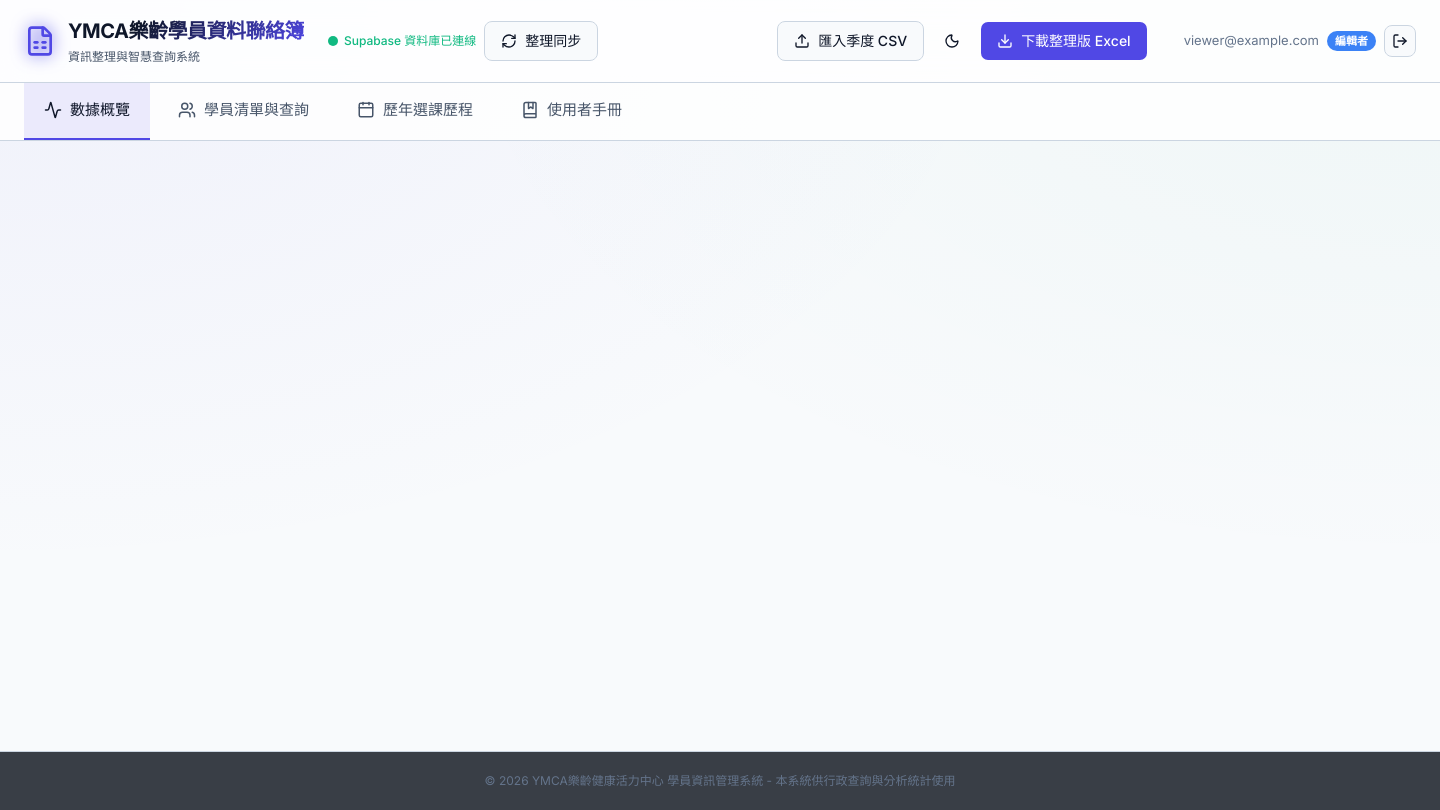
Test: App header access controls › opens the user manual from its navigation tab
This screenshot has width=1440, height=810.
Click the button with id "tab-manual".
click(572, 111)  # box [501,83,642,140]
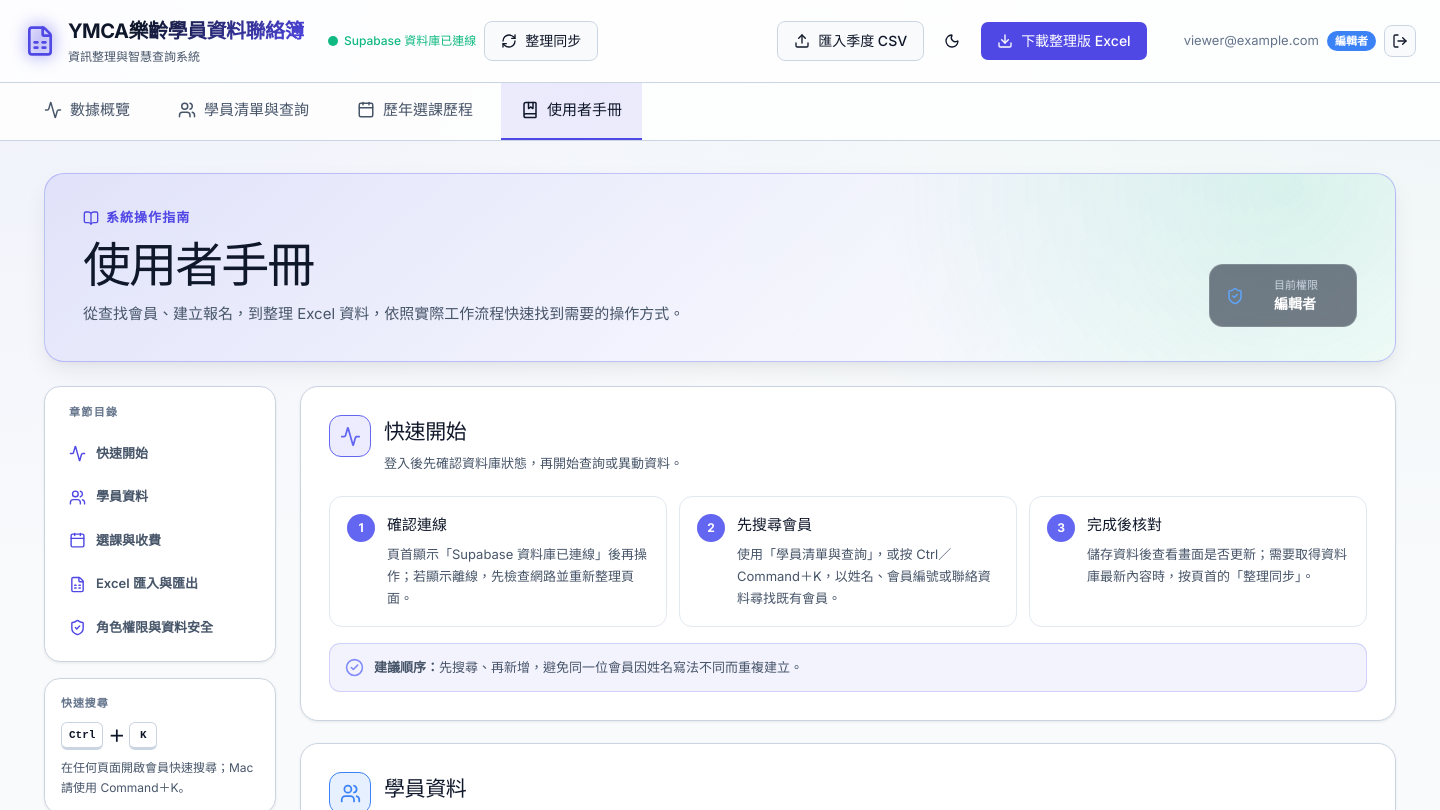
Expected: the heading "使用者手冊" is shown, [83,235,313,294]
